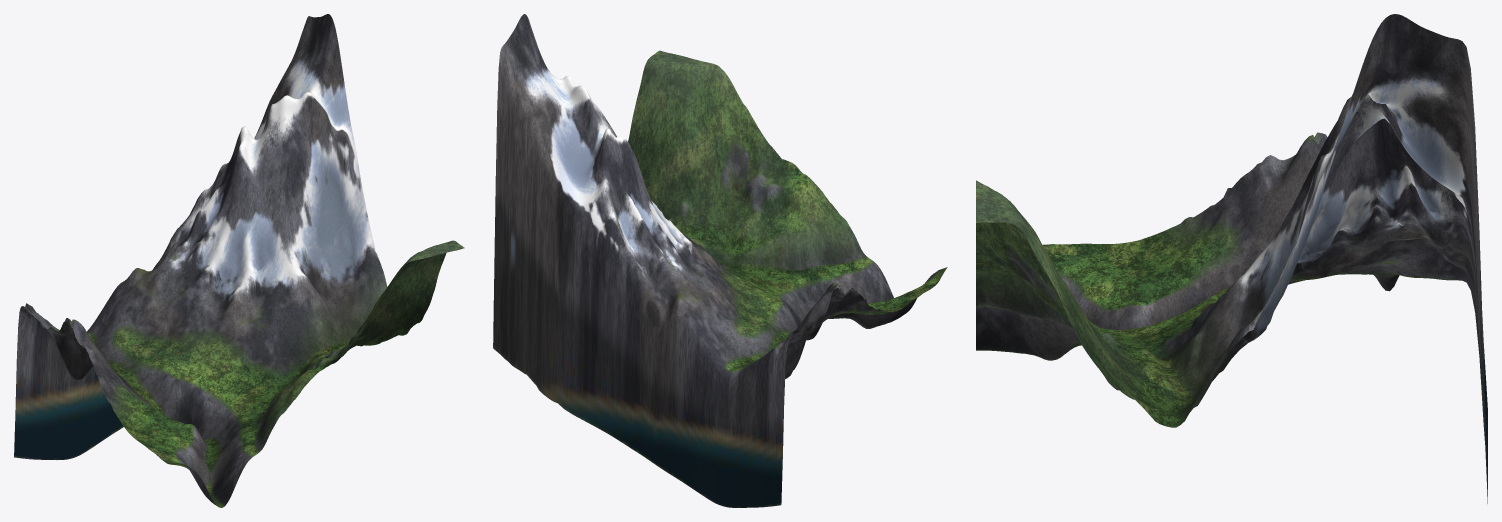
The picture shows the model from 3 angles, left to right: view 1: azimuth 30°, elevation 25°; view 2: azimuth 150°, elevation 25°; view 3: azimuth 270°, elevation 25°; orthographic projection. The views are drawn at different scales.
Visible parts, largest first — view 1: t064_192; view 2: t064_192; view 3: t064_192.
Boxes of the visible parts, <box> form: t064_192: <box>14,14,464,507</box>; t064_192: <box>493,14,947,507</box>; t064_192: <box>976,14,1487,503</box>.
Size of the model in its own units: 64 by 87.72 by 64.
1 material, 1 textured.
